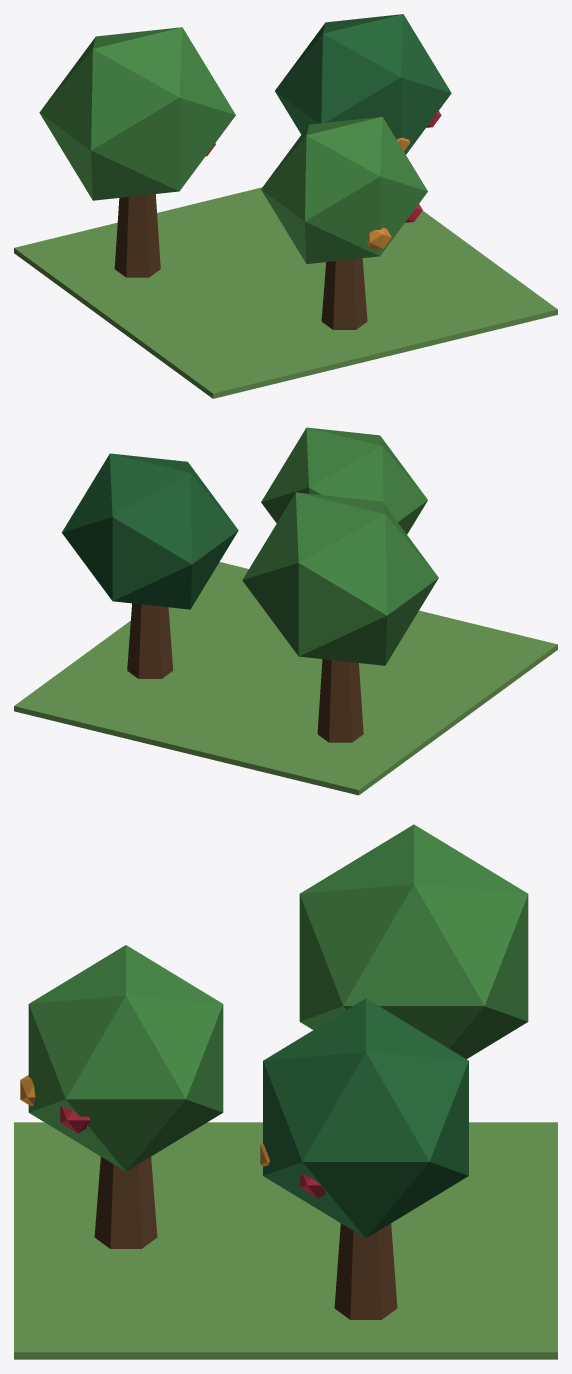
Rendered from orchard.glb.
3 renders of one model, top to bottom at view 1: azimuth 30°, elevation 25°; view 2: azimuth 150°, elevation 25°; view 3: azimuth 270°, elevation 25°, orthographic. The views are drawn at different scales.
Visible parts, largest first — view 1: orchard; view 2: orchard; view 3: orchard.
Boxes of the visible parts, <box> form: orchard: <box>14,14,557,398</box>; orchard: <box>14,427,557,795</box>; orchard: <box>14,824,557,1359</box>.
Size of the model in its own units: 0.3415 by 0.2227 by 0.34.
